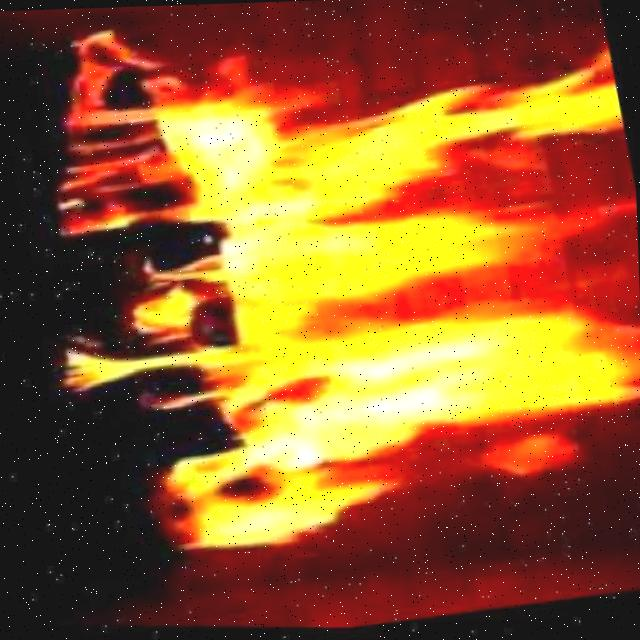fire: (110, 36, 640, 561)
